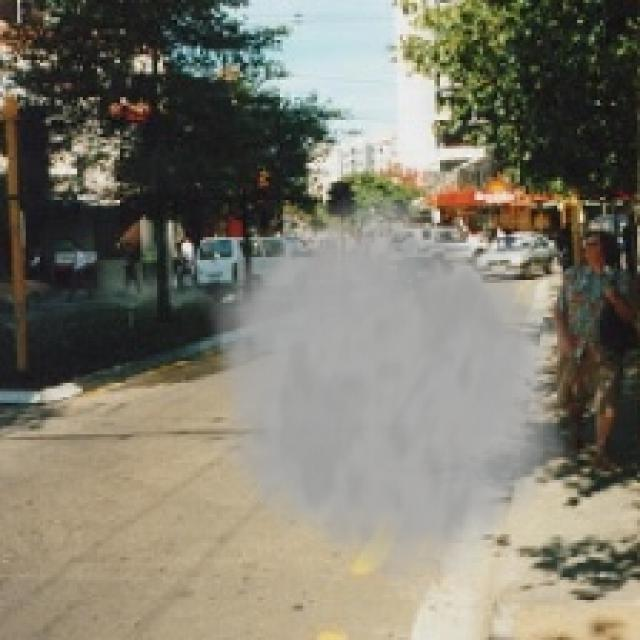Smoke: (194, 177, 572, 603)
